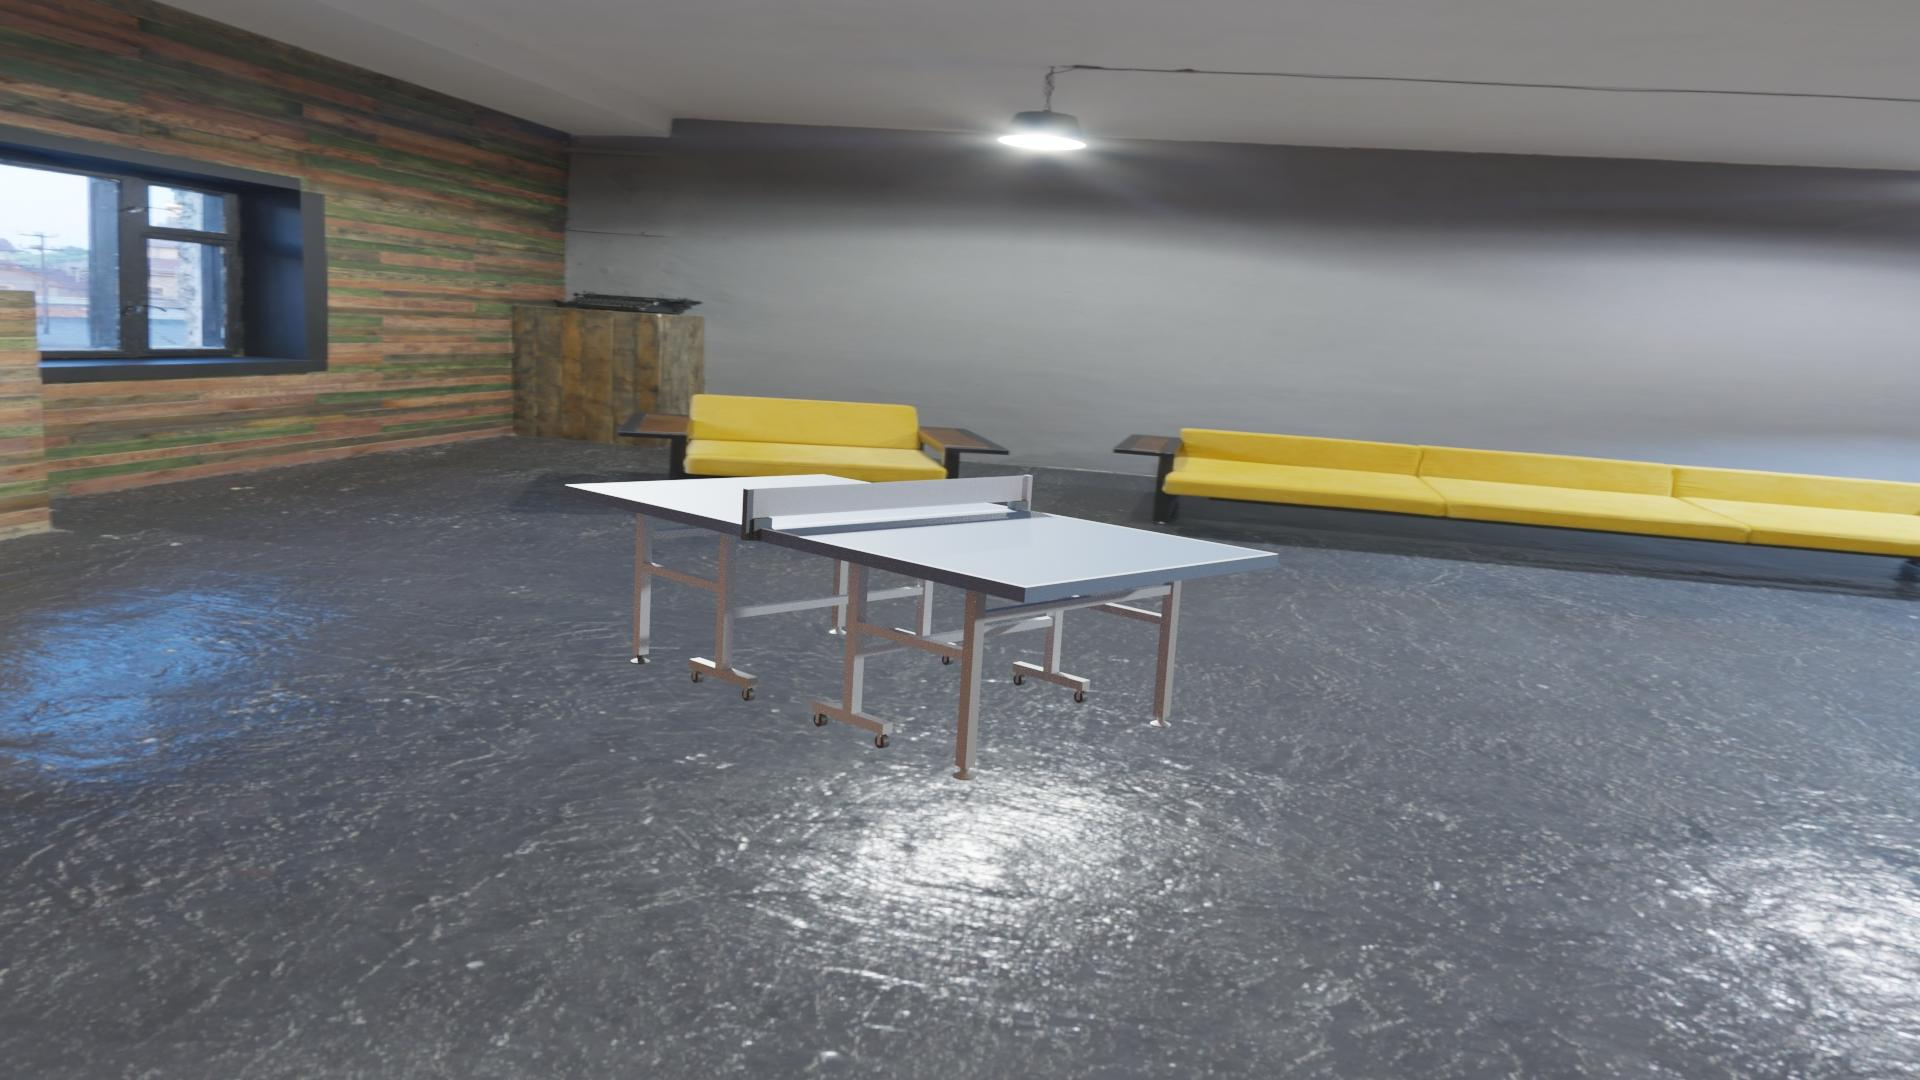table: (571, 475, 1271, 585)
